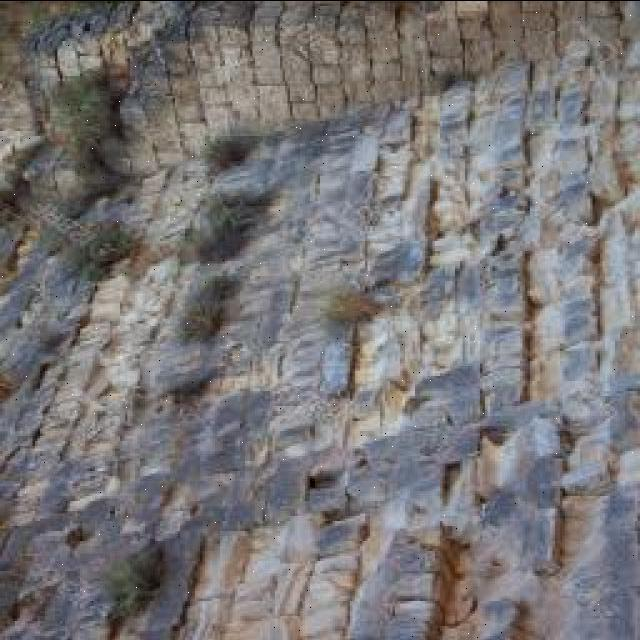crack: (1, 2, 638, 637), (181, 390, 267, 484), (41, 331, 115, 435), (361, 127, 421, 242), (15, 561, 102, 640), (160, 529, 216, 637), (420, 158, 483, 247), (2, 315, 71, 396), (134, 334, 214, 403), (189, 531, 250, 615), (306, 143, 368, 222), (0, 511, 66, 584), (526, 175, 596, 239), (206, 154, 287, 208), (66, 492, 138, 550), (238, 532, 299, 594), (151, 476, 208, 540), (538, 132, 594, 195), (515, 2, 568, 66), (586, 140, 630, 212), (490, 4, 533, 59), (87, 276, 129, 328), (159, 39, 199, 85), (555, 81, 591, 131), (227, 614, 295, 640), (249, 82, 292, 121), (176, 119, 214, 159), (251, 42, 288, 82), (56, 39, 85, 79), (454, 1, 489, 19)
dampness: (173, 6, 437, 134)
vegetation: (45, 68, 120, 163), (99, 541, 168, 628), (182, 186, 256, 263), (64, 216, 143, 282), (177, 269, 246, 343)
